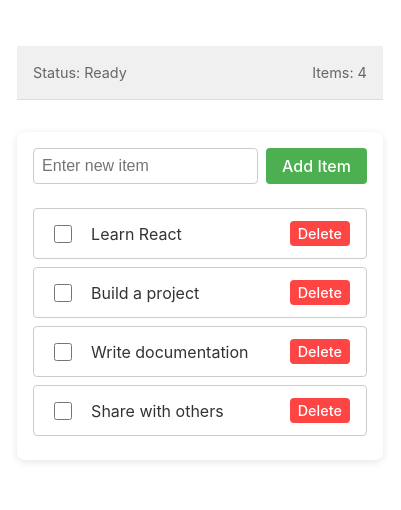
Add new item and verify list › should add a new item to the list and verify the list
Type "Test Item" into the field with test id "new-item".
click(146, 166); type("Test Item")  # box [33,148,258,184]
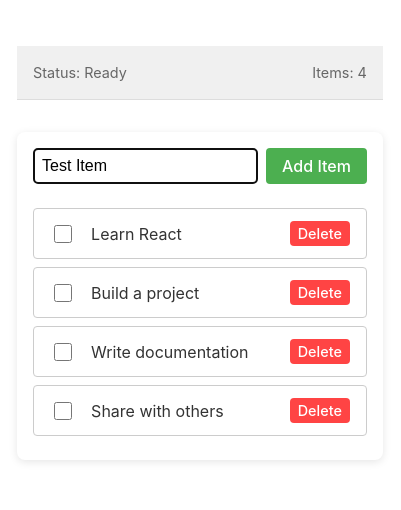
Click the button with test id "add-item".
click(317, 166)  # box [266,148,367,184]
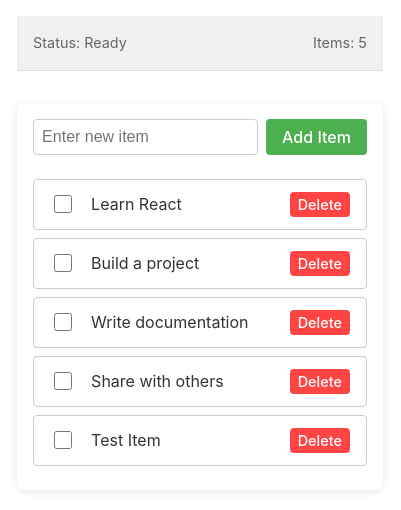
Expected: the text with class "list-item-text" reads "Test Item", [91,430,161,450]
